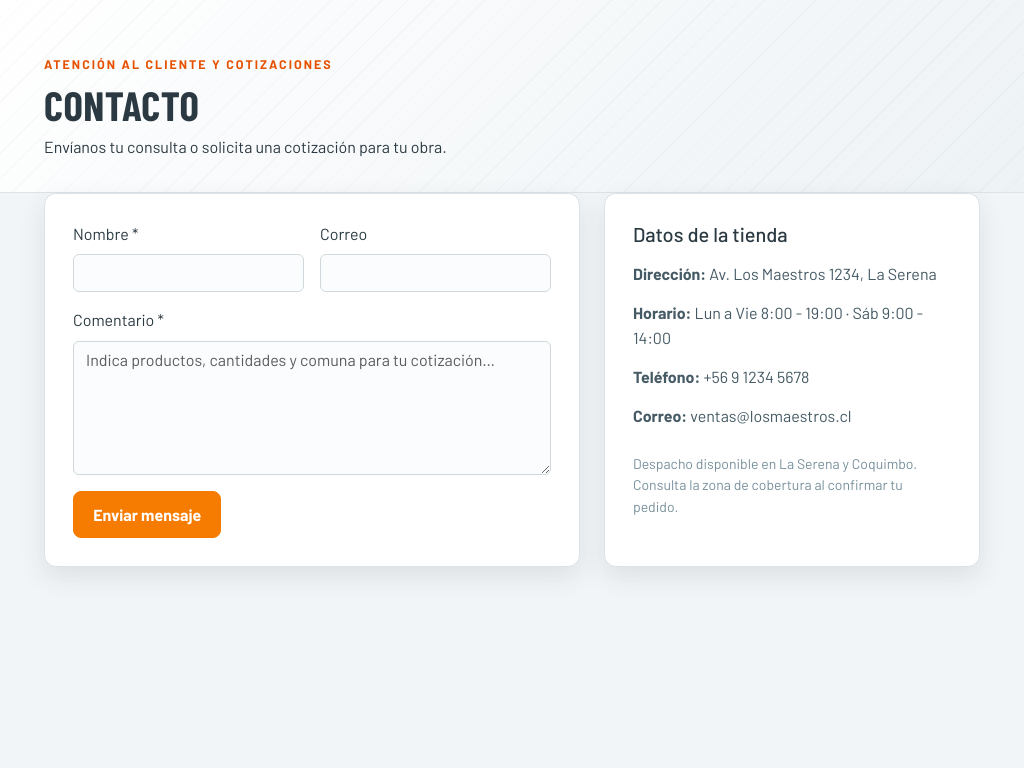
Test: Formulario de Contacto › muestra los campos obligatorios cuando se envía vacío
Click the button "Enviar mensaje": [147, 514] box [73,491,221,538]
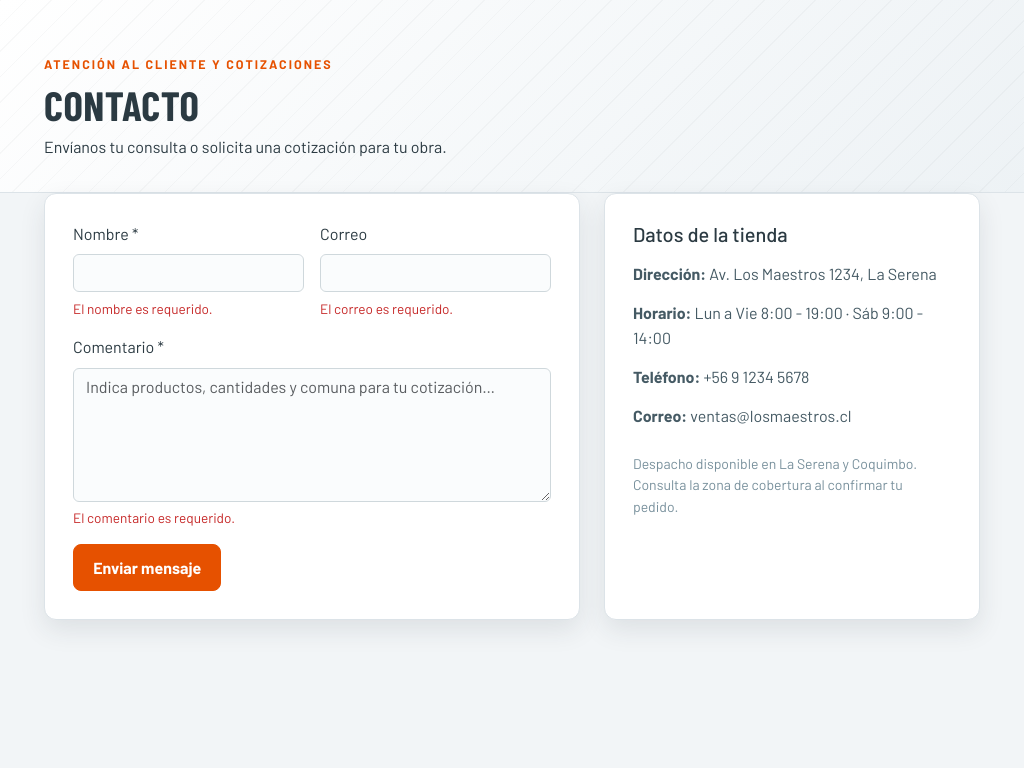
Result: the text "El nombre es requerido." is shown at [73,300,213,317]
Result: the text "El correo es requerido." is shown at [320,300,453,317]
Result: the text "El comentario es requerido." is shown at [73,509,235,526]
